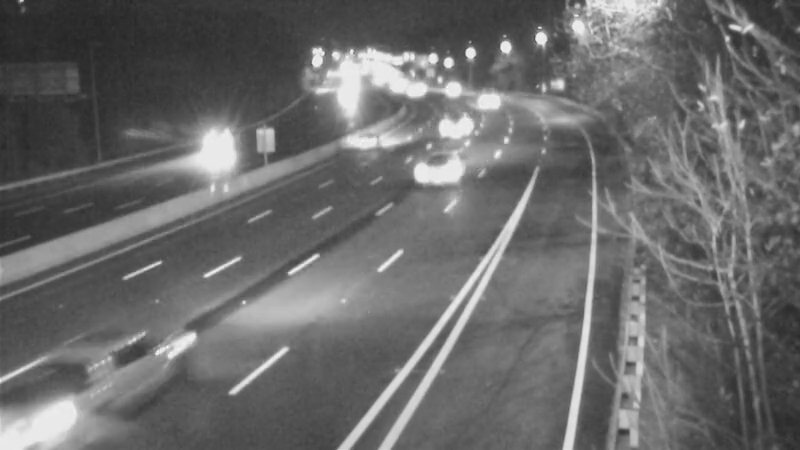vehicle: (1, 351, 96, 450), (404, 129, 484, 209), (429, 62, 479, 112), (467, 69, 517, 119), (439, 91, 489, 141), (338, 115, 388, 165), (188, 119, 238, 169)
